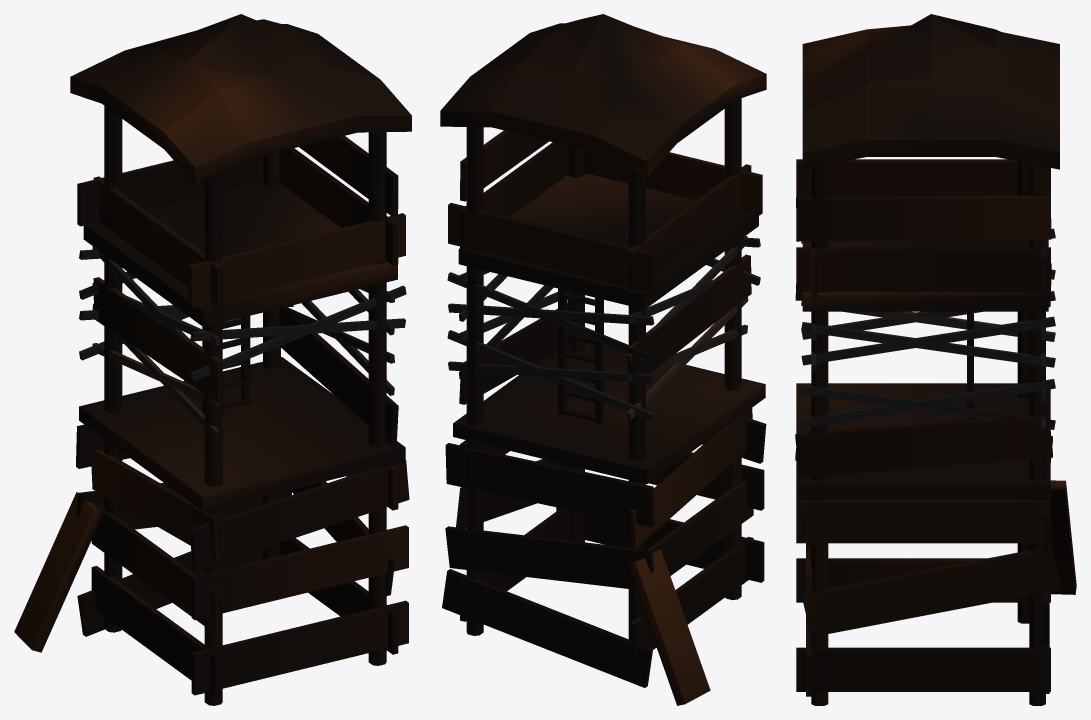
The model's file is WatchTower.fbx.
3 views of the same model, side by side, from view 1: azimuth 30°, elevation 25°; view 2: azimuth 150°, elevation 25°; view 3: azimuth 270°, elevation 25° (orthographic). The views are drawn at different scales.
Visible parts, largest first — view 1: pCube14; view 2: pCube14; view 3: pCube14.
Boxes of the visible parts, x1,y1,x2,y2 form: pCube14: [14, 14, 411, 705]; pCube14: [440, 14, 766, 705]; pCube14: [795, 14, 1076, 705].
Bounding box in the file's own units: 451 × 1011 × 393.
